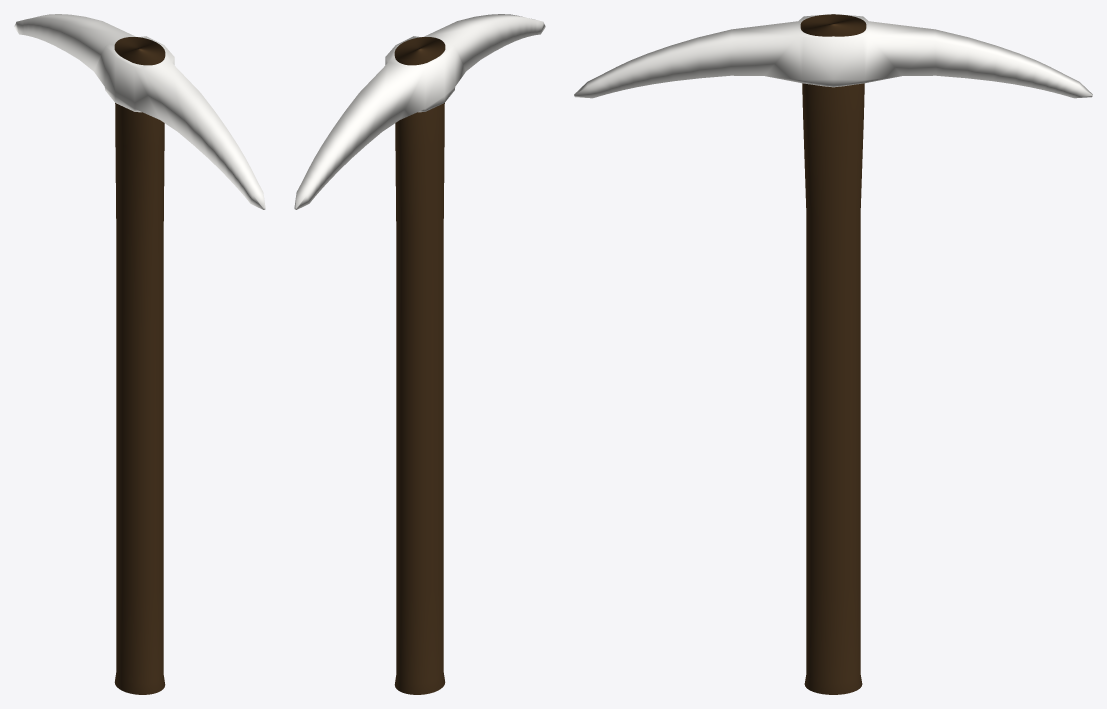
The model's file is ipick.glb.
3 views of the same model, side by side, from view 1: azimuth 30°, elevation 25°; view 2: azimuth 150°, elevation 25°; view 3: azimuth 270°, elevation 25° (orthographic). The views are drawn at different scales.
Parts seen in each view (by area): view 1: Cylinder, Cube; view 2: Cylinder, Cube; view 3: Cylinder, Cube.
Boxes of the visible parts, x1=… form: Cylinder: x1=114, y1=37, x2=165, y2=694; Cube: x1=14, y1=14, x2=265, y2=209; Cylinder: x1=394, y1=37, x2=445, y2=694; Cube: x1=294, y1=14, x2=545, y2=209; Cylinder: x1=800, y1=14, x2=866, y2=694; Cube: x1=574, y1=14, x2=1092, y2=98.
Size of the model in its own units: 0.2572 by 3.17 by 2.26.
